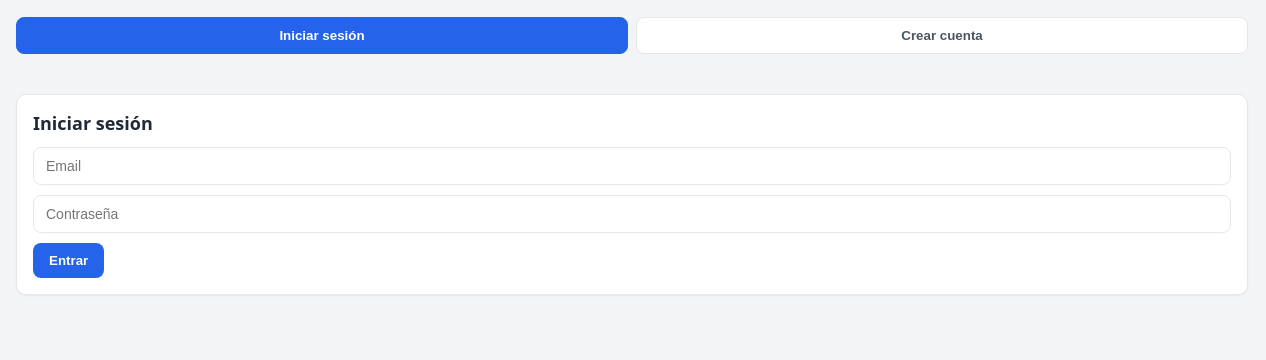
Test: Auth › tras un registro exitoso vuelve a la pestana de login
# cambiar a la pestana de registro
Click the button "Crear cuenta": click(942, 36) [636,17,1248,54]
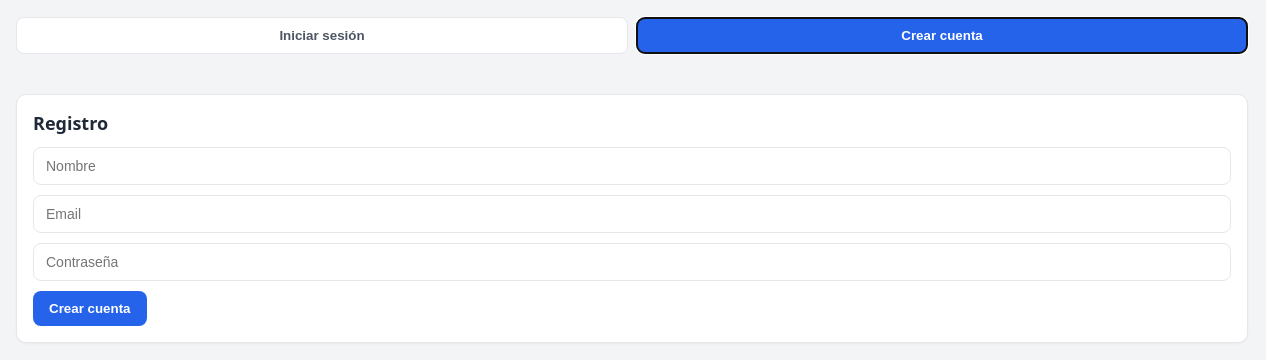
# llenar el formulario
In the field with placeholder "Nombre": (632, 166) [33,147,1231,185], type "Sergio"
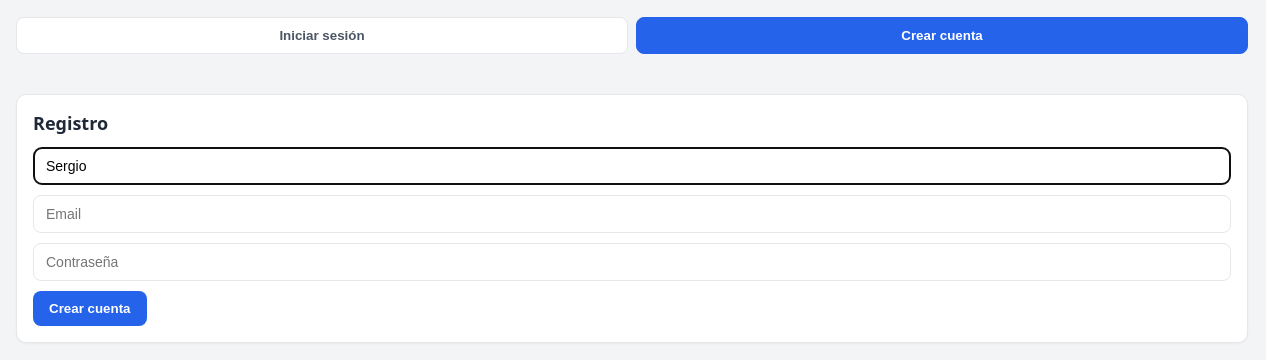
In the field with placeholder "Email": (632, 214) [33,195,1231,233], type "sergio@test.com"
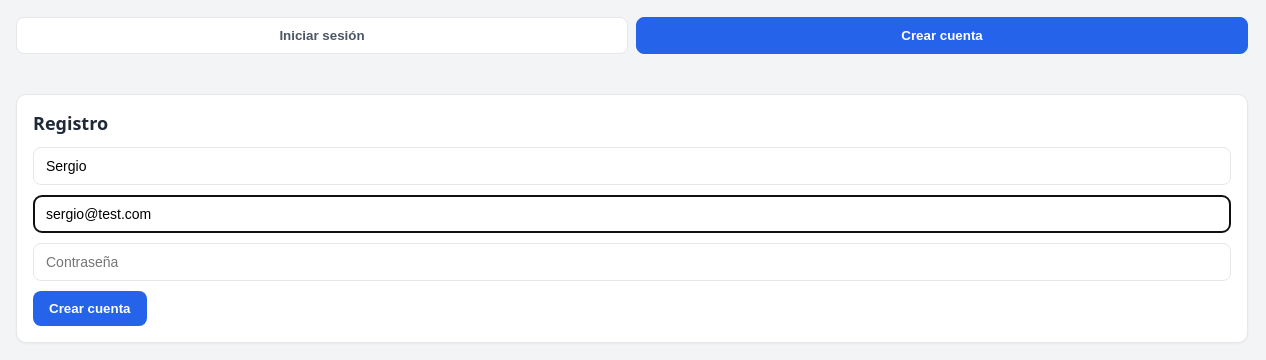
In the password field with placeholder "Contraseña": (632, 262) [33,243,1231,281], type "123456"
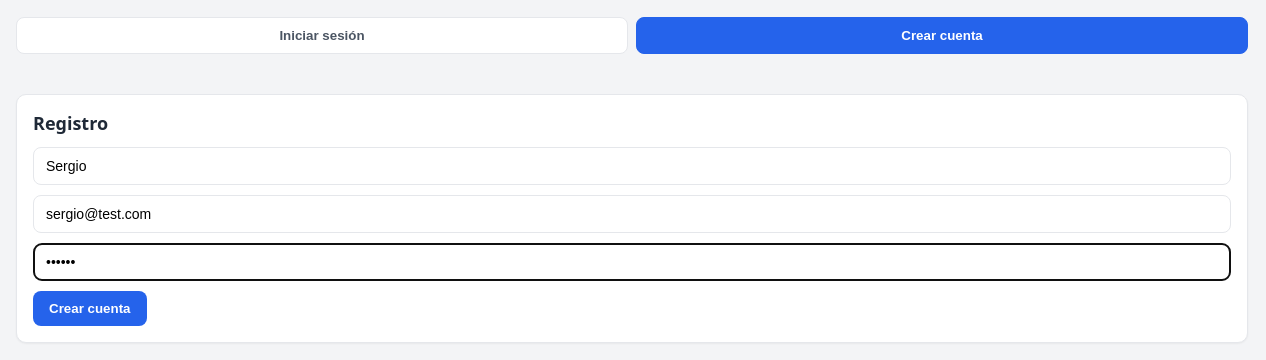
Click the button "Crear cuenta" below "Registro": click(90, 308) [33,291,146,326]
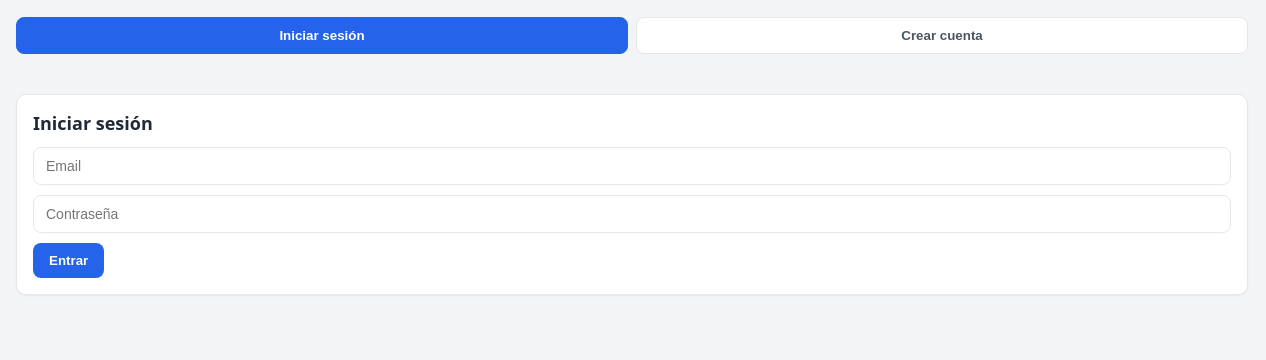
expect the heading "Iniciar sesión" is shown: met, box [33,111,153,135]
